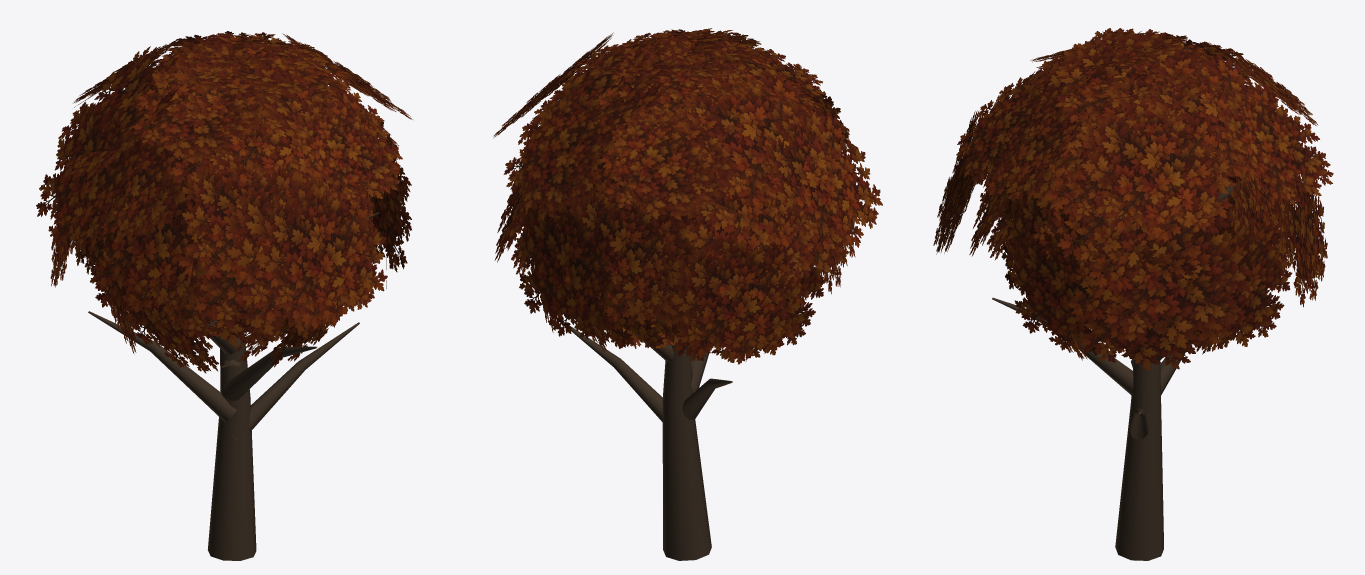
The picture shows the model from 3 angles, left to right: view 1: azimuth 30°, elevation 25°; view 2: azimuth 150°, elevation 25°; view 3: azimuth 270°, elevation 25°; orthographic projection.
Visible parts, largest first — view 1: Bark; view 2: Bark; view 3: Bark.
Part boxes in pixels (left/top/right/bottom): Bark: left=36, top=31, right=412, bottom=560; Bark: left=493, top=28, right=882, bottom=560; Bark: left=933, top=28, right=1333, bottom=560.
Bounding box in the file's own units: 6.6 × 8.76 × 6.58.
3 materials, 1 textured.
